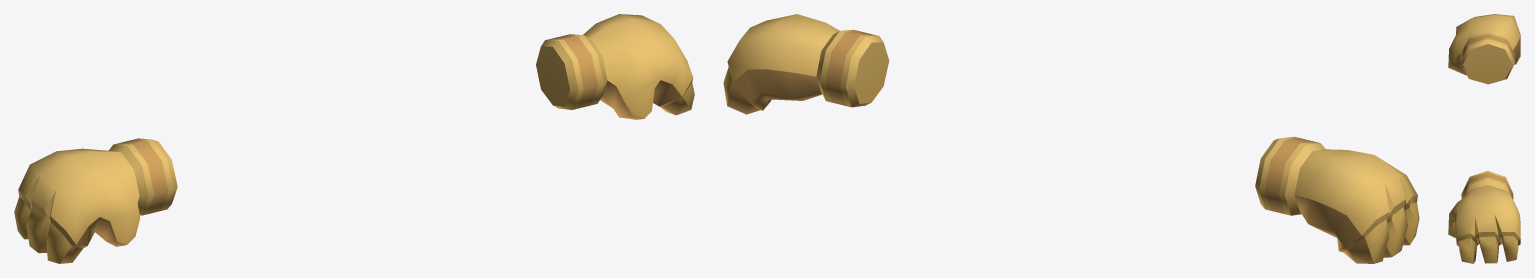
Rendered from Glove_6.fbx.
3 renders of one model, left to right at view 1: azimuth 30°, elevation 25°; view 2: azimuth 150°, elevation 25°; view 3: azimuth 270°, elevation 25°, orthographic. The views are drawn at different scales.
Visible parts, largest first — view 1: Glove_6; view 2: Glove_6; view 3: Glove_6.
Boxes of the visible parts, <box> form: Glove_6: <box>14,14,694,263</box>; Glove_6: <box>723,14,1419,263</box>; Glove_6: <box>1448,14,1520,263</box>.
Bounding box in the file's own units: 132 × 17.31 × 19.42.
